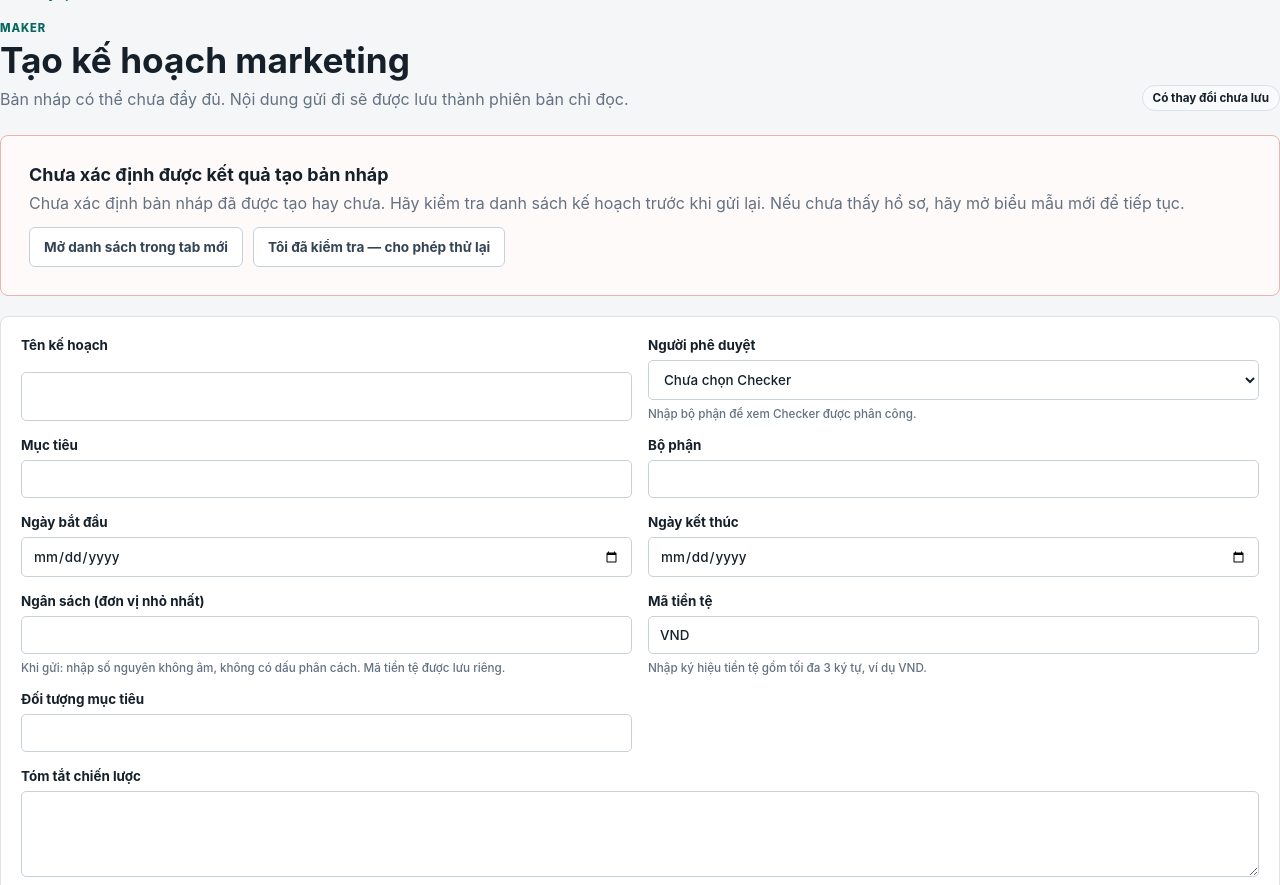
Scenario: explains that changed data cannot reuse a consumed creation intent
Type "Different content" into the field labelled "Tên kế hoạch" at (326, 397), box [21,372,632,422]
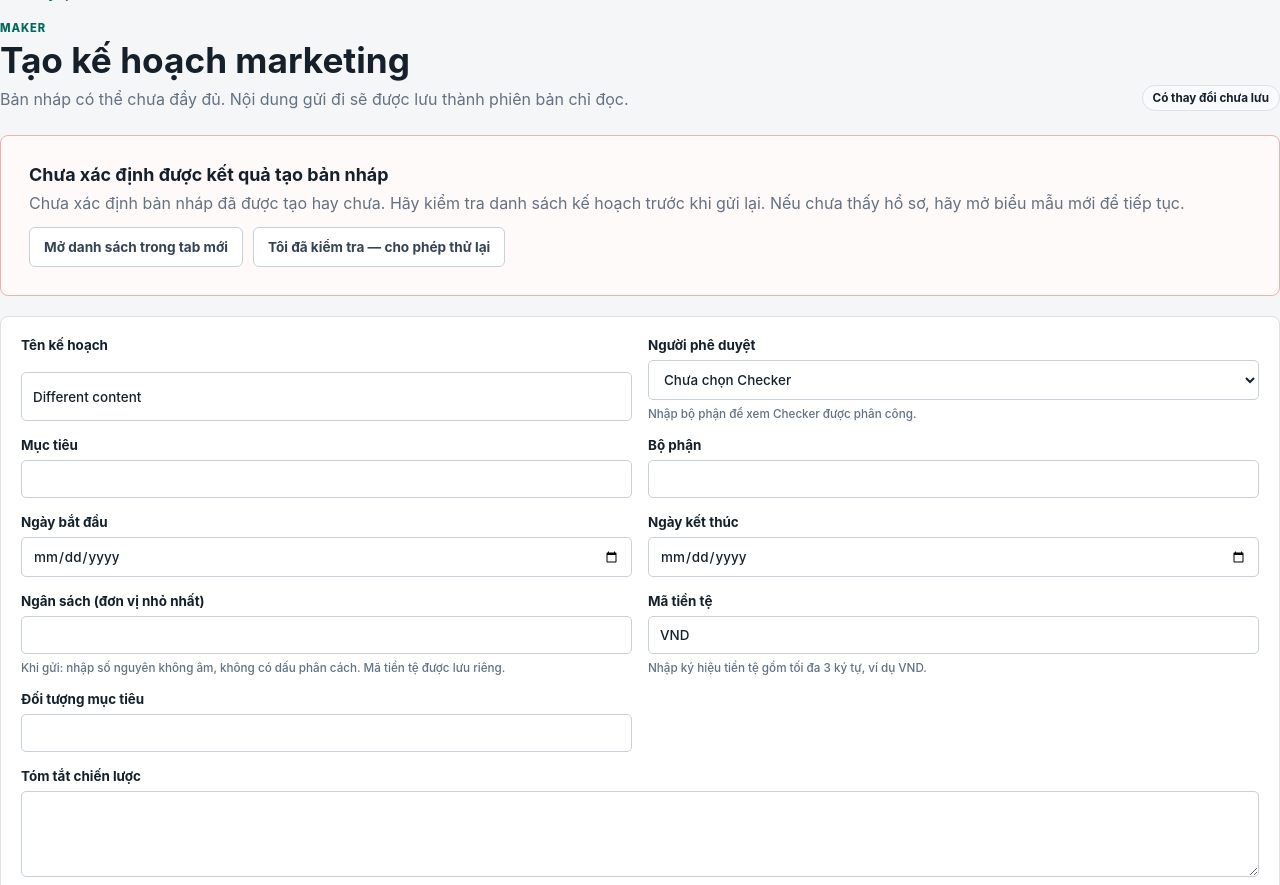
Click the button "Tôi đã kiểm tra — cho phép thử lại" at (379, 248), box [253,228,505,268]
(page scrolled)
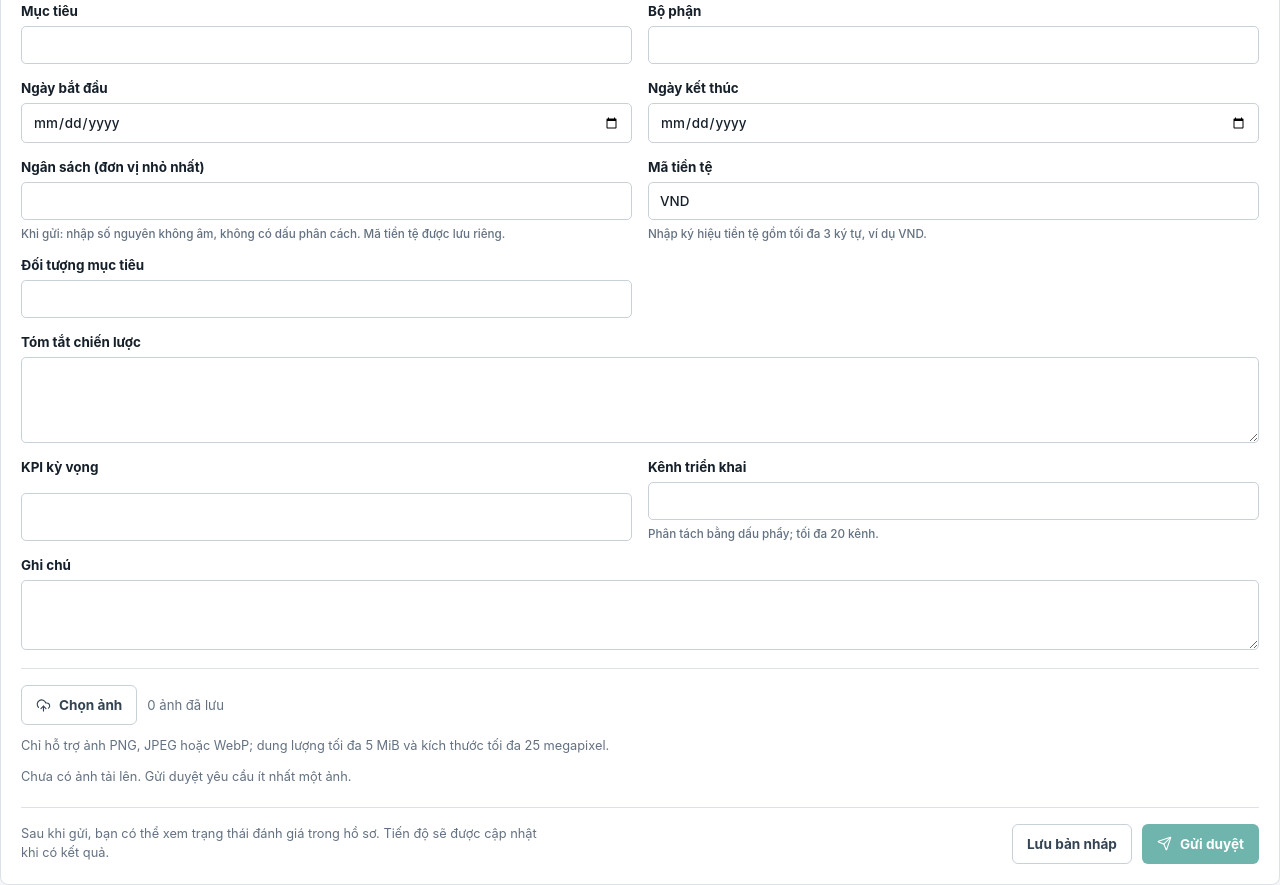
Click the button "Lưu bản nháp" at (1072, 844), box [1012,824,1132,864]
(page scrolled)
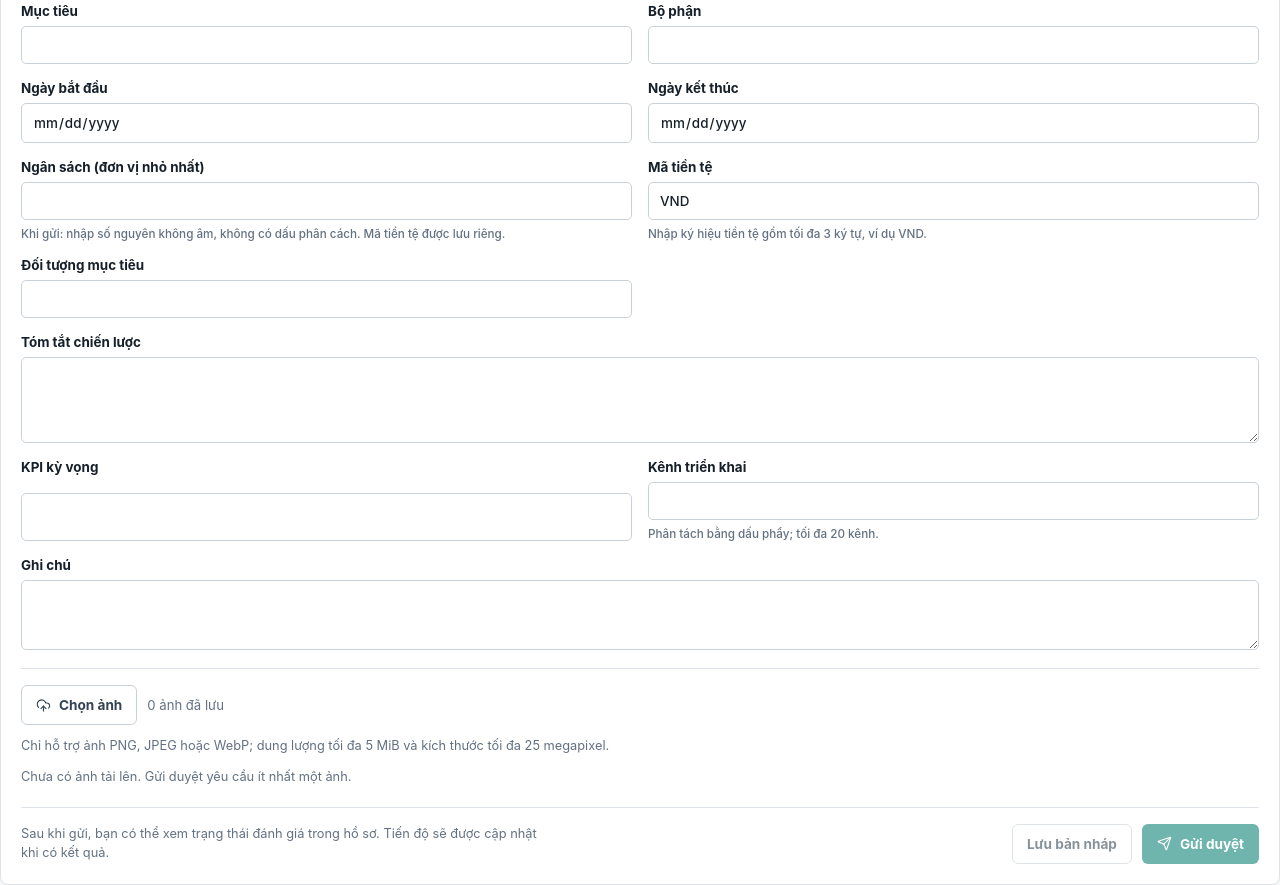
expect the button "Lưu bản nháp" is disabled: met, box [1012,824,1132,864]
